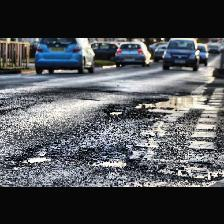pothole: (80, 147, 132, 167), (14, 140, 56, 162), (108, 110, 122, 114)
